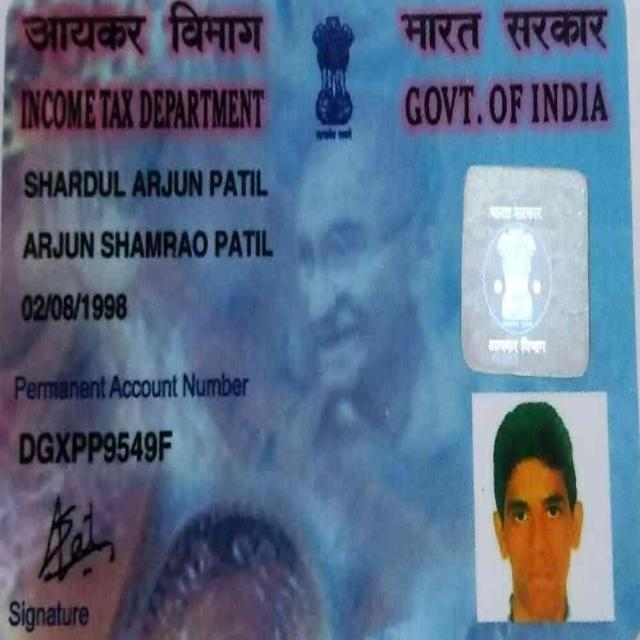pan_card: (5, 3, 637, 640)
